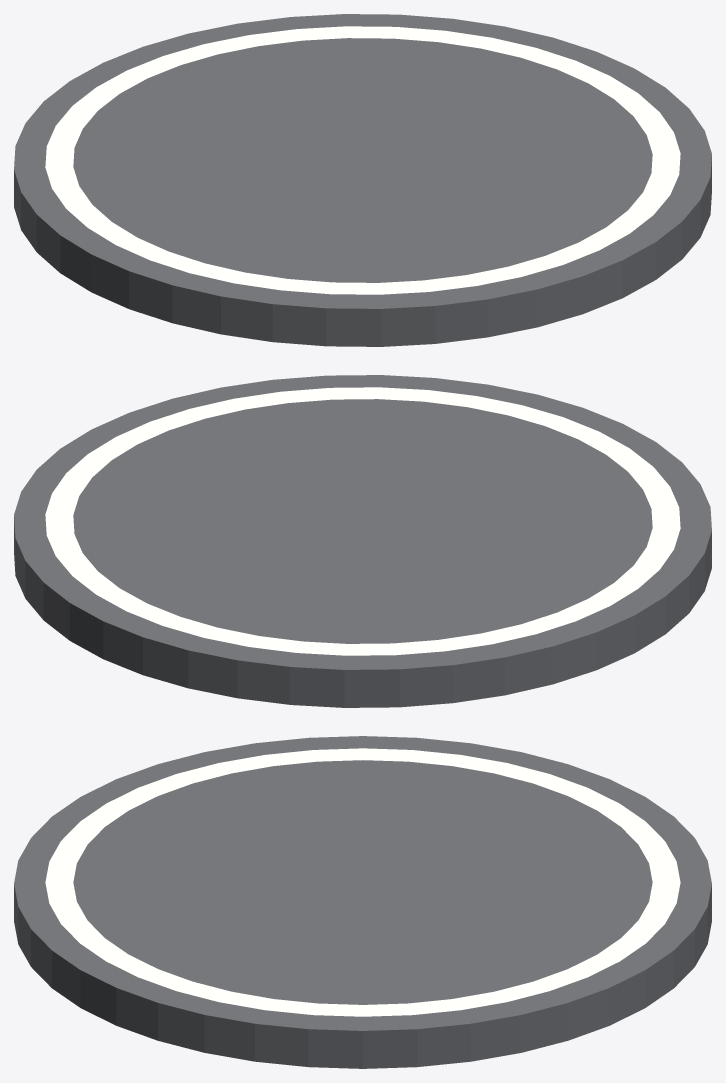
File: lunar-rift-flagpad.glb
The picture shows the model from 3 angles, top to bottom: view 1: azimuth 30°, elevation 25°; view 2: azimuth 150°, elevation 25°; view 3: azimuth 270°, elevation 25°; orthographic projection.
Visible parts, largest first — view 1: FLAGPAD; view 2: FLAGPAD; view 3: FLAGPAD.
Boxes of the visible parts, left/top/right/bottom form: FLAGPAD: left=14, top=14, right=711, bottom=346; FLAGPAD: left=14, top=375, right=711, bottom=707; FLAGPAD: left=14, top=736, right=711, bottom=1068.
Bounding box in the file's own units: 20 × 1.23 × 20.
